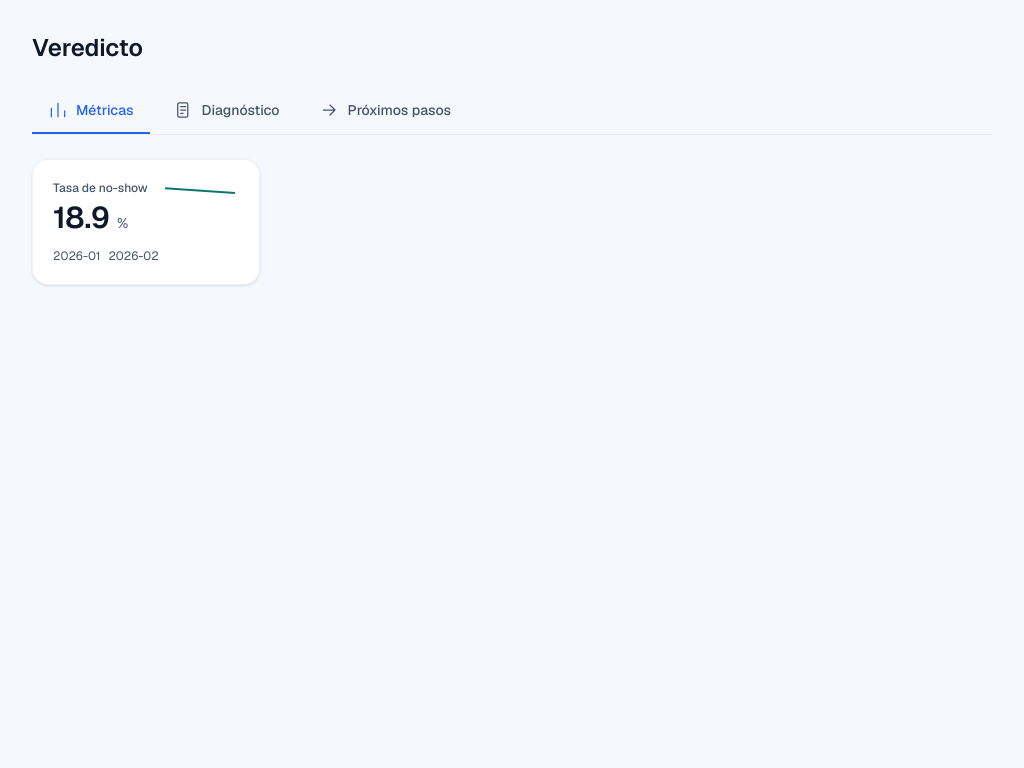
it: Veredicto Métricas drill-down (task 3.6/3.7) › opens MetricDetail on card click, and restores the grid on back
Click the button "Tasa de no-show 18.9 % 2026-01 2026-02" at {"x": 146, "y": 222}, box x1=32 y1=159 x2=260 y2=285
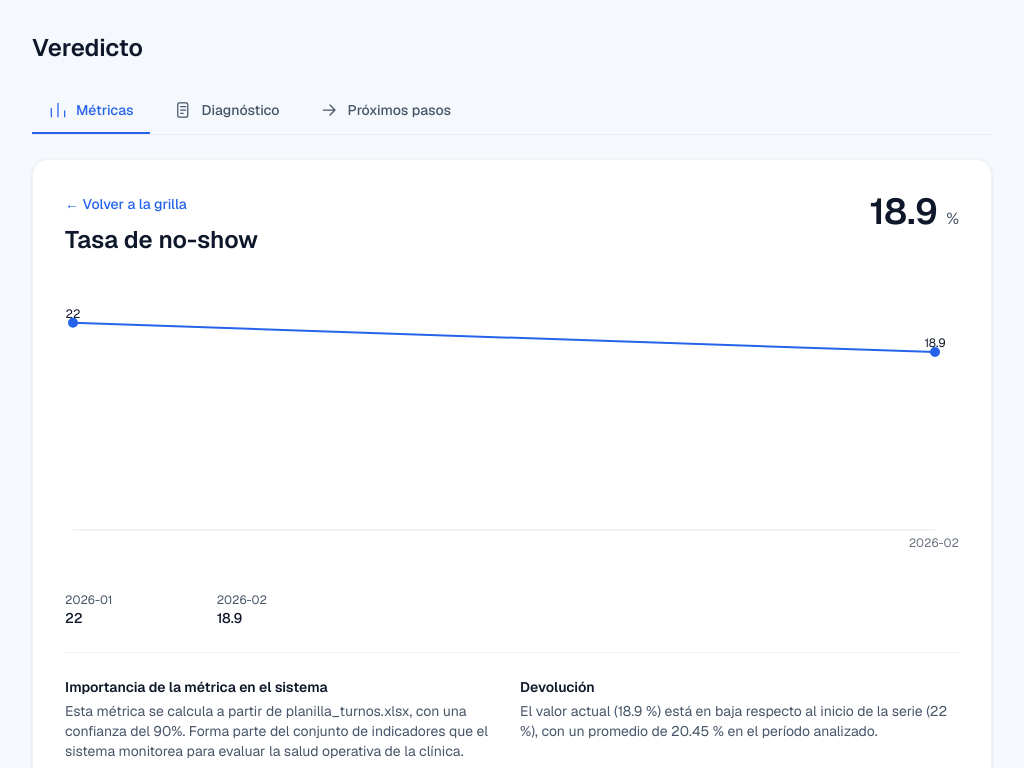
Expected: the heading "Tasa de no-show" is shown, x1=65 y1=224 x2=258 y2=256
Expected: the heading "Importancia de la métrica en el sistema" is shown, x1=65 y1=678 x2=328 y2=696
Expected: the heading "Devolución" is shown, x1=520 y1=678 x2=595 y2=696
Click the button "← Volver a la grilla" at {"x": 126, "y": 204}, box x1=65 y1=194 x2=187 y2=214
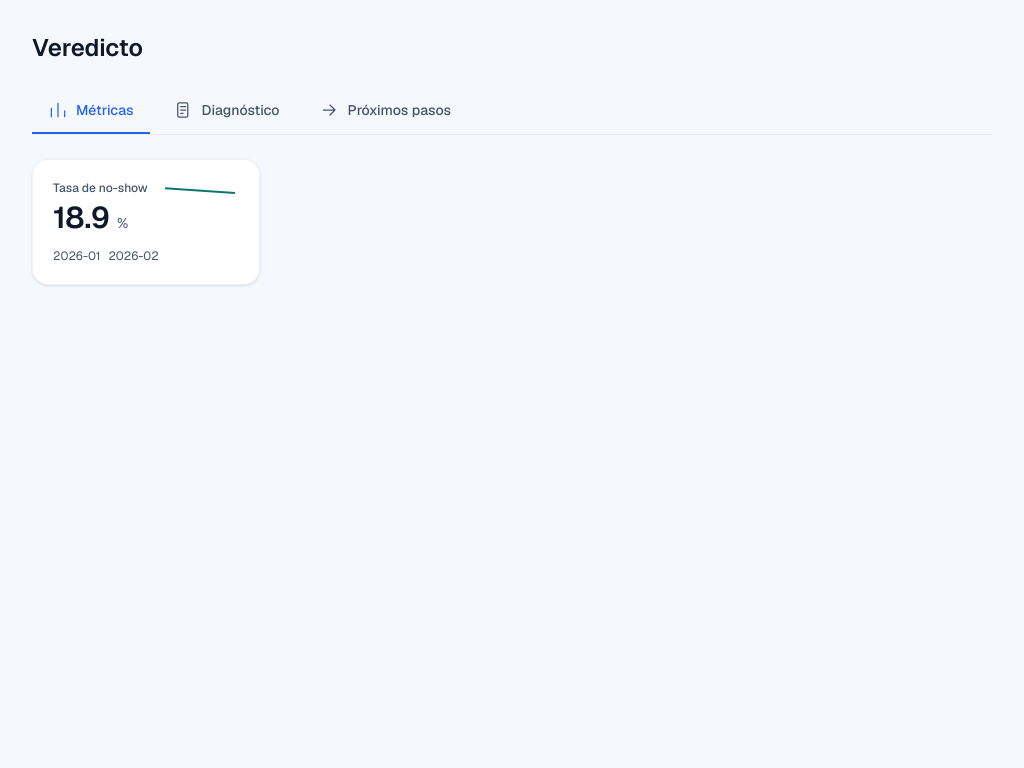
Expected: the button "Tasa de no-show 18.9 % 2026-01 2026-02" is shown, x1=32 y1=159 x2=260 y2=285
